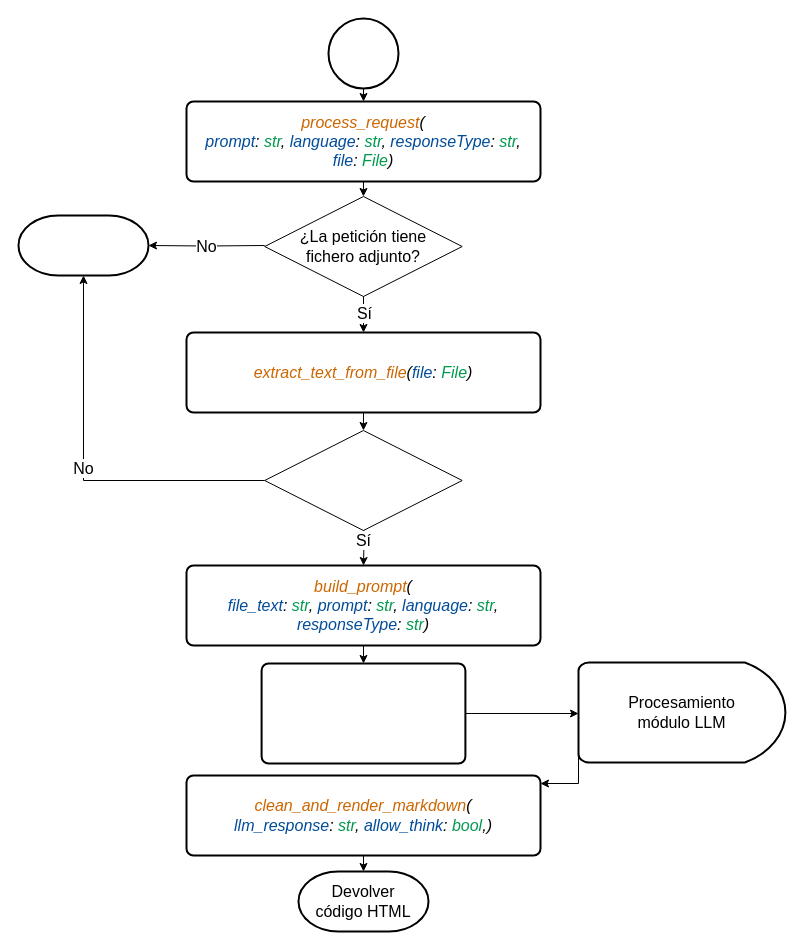
Some shapes in this 803 by 949 pixel diagram are drawn without their labels. The box of each missing label's shape, as (x1, y1, x2, y2) in pixels:
Enviar al módulo LLM: (260, 662, 466, 764)
Error 400 ( Bad Request ): (17, 214, 149, 276)
Inicio: (327, 17, 399, 89)
¿Conversión exitosa ?: (264, 430, 462, 530)
